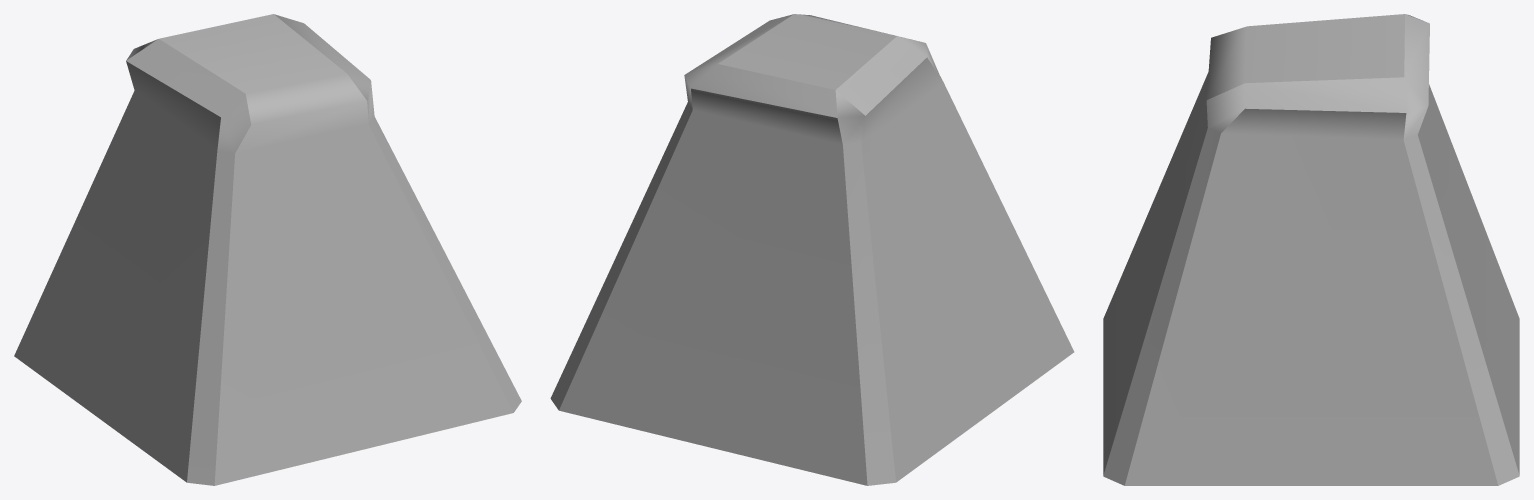
The model's file is Ground Stone 1.fbx.
The picture shows the model from 3 angles, left to right: view 1: azimuth 30°, elevation 25°; view 2: azimuth 150°, elevation 25°; view 3: azimuth 270°, elevation 25°; orthographic projection. The views are drawn at different scales.
Parts seen in each view (by area): view 1: Ground_Stone_1; view 2: Ground_Stone_1; view 3: Ground_Stone_1.
Boxes of the visible parts, x1,y1,x2,y2 form: Ground_Stone_1: (14, 14, 521, 485); Ground_Stone_1: (550, 14, 1074, 485); Ground_Stone_1: (1103, 14, 1519, 485).
Bounding box in the file's own units: 1.26 × 1.17 × 1.26.
